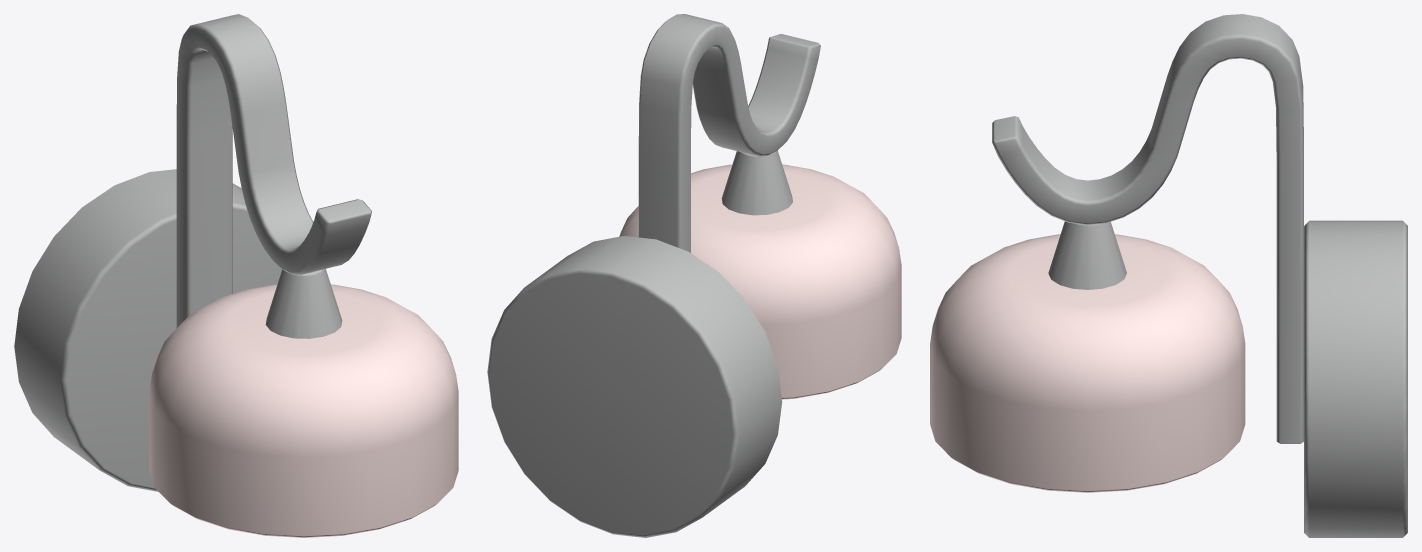
The model's file is City_11_Wall_Lamp_1.glb.
3 renders of one model, left to right at view 1: azimuth 30°, elevation 25°; view 2: azimuth 150°, elevation 25°; view 3: azimuth 270°, elevation 25°, orthographic. The views are drawn at different scales.
Parts seen in each view (by area): view 1: City_11_Wall_Lamp_1; view 2: City_11_Wall_Lamp_1; view 3: City_11_Wall_Lamp_1.
Part boxes in pixels (box(x1,y1,x2,y2)): City_11_Wall_Lamp_1: box(14, 14, 458, 537); City_11_Wall_Lamp_1: box(487, 14, 901, 537); City_11_Wall_Lamp_1: box(930, 14, 1407, 537).
Size of the model in its own units: 0.4069 by 0.7046 by 0.6107.
1 material, 1 textured.
